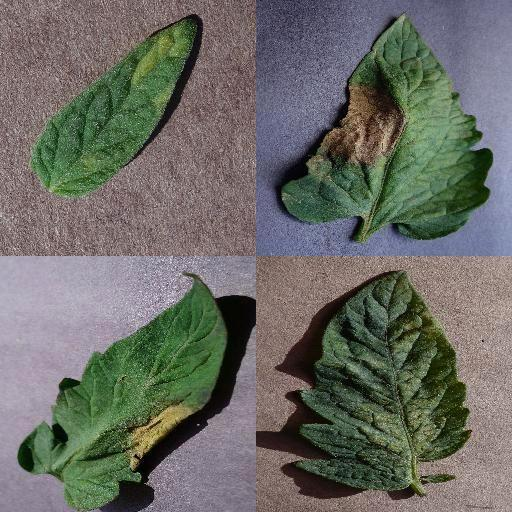Late Blight: (15, 269, 226, 512), (277, 11, 495, 243)
Leaf Mold: (30, 15, 200, 195)
Spider Mites: (295, 268, 473, 492)
